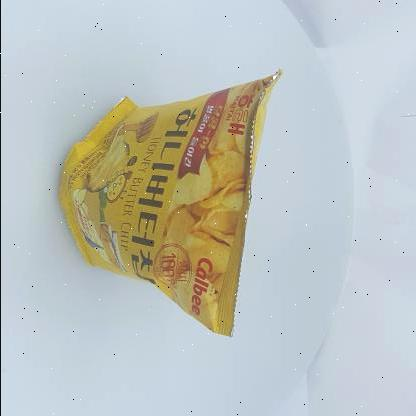Others: (48, 63, 288, 341)
